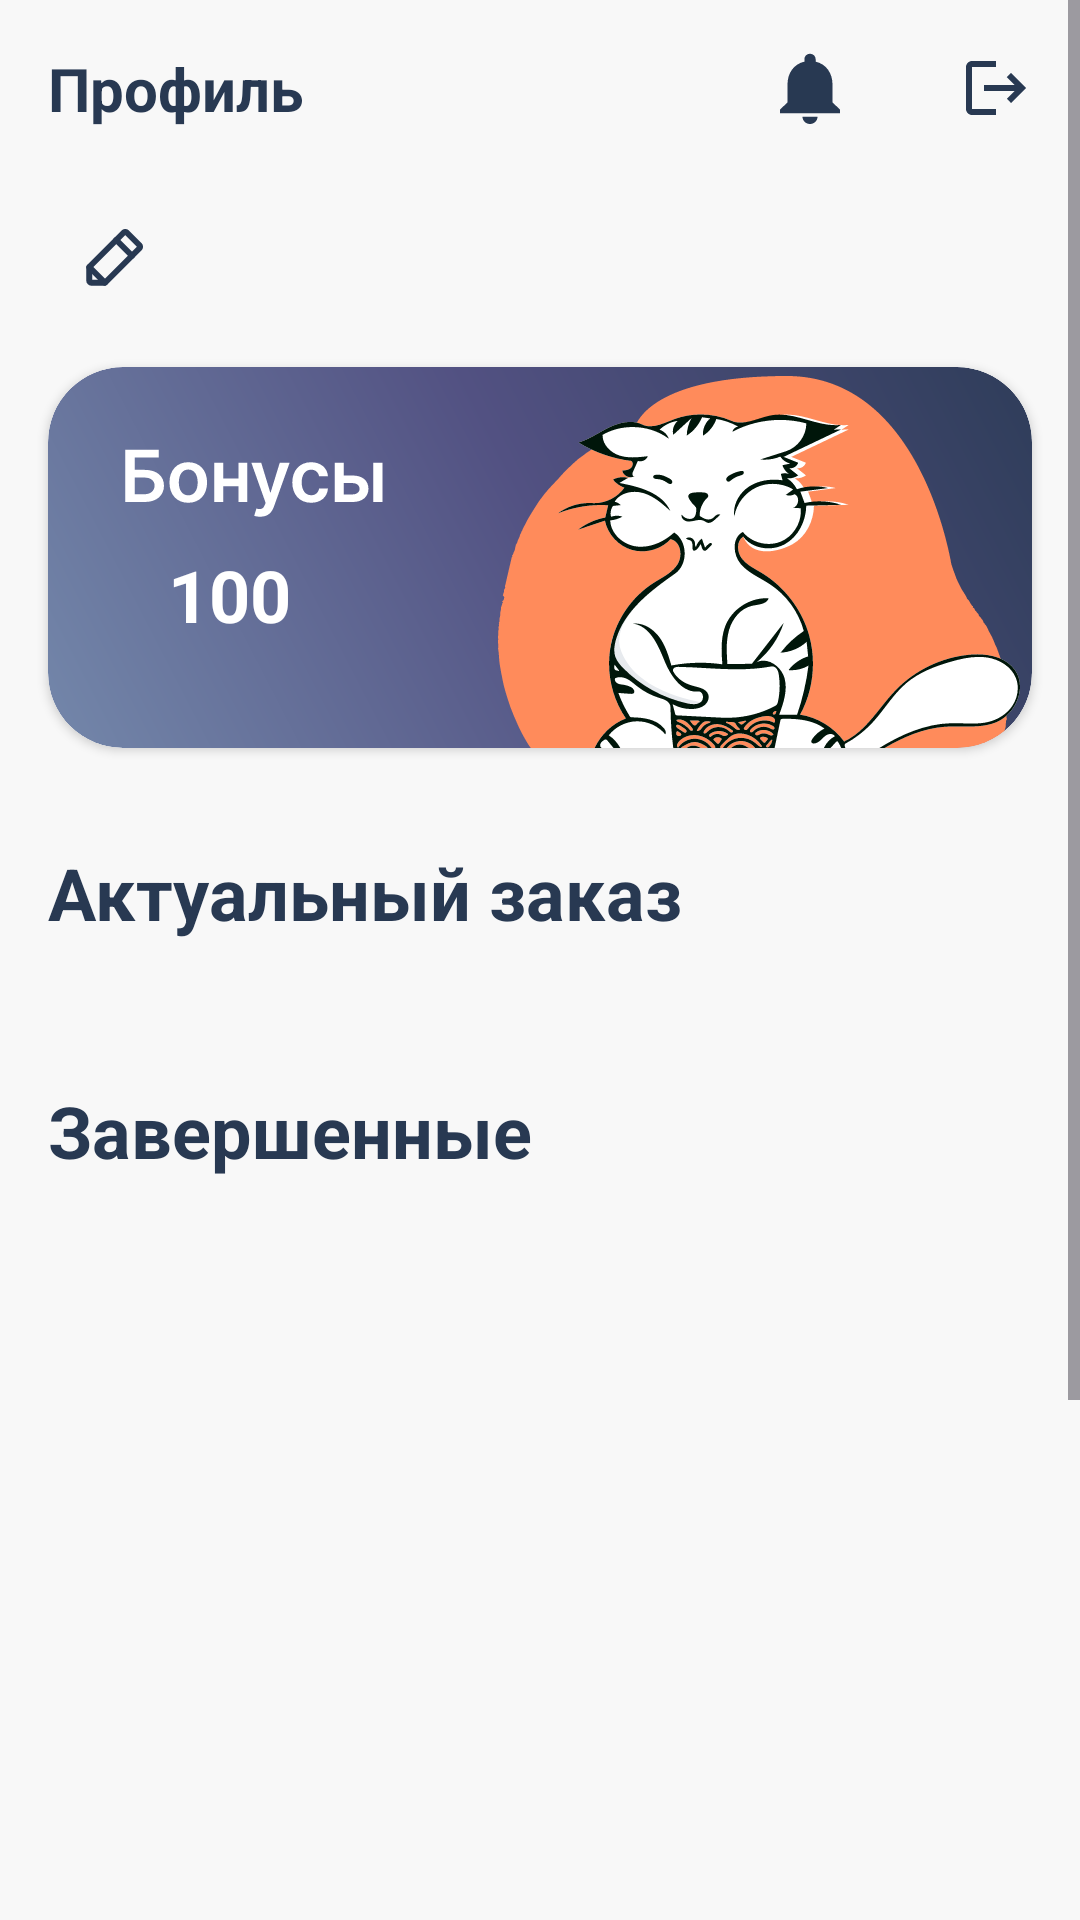

Icons on this 1080px×1920px Android screen, each with the point to tap as (x=x, y=y):
notification: (x=810, y=88)
profile edit: (x=114, y=257)
